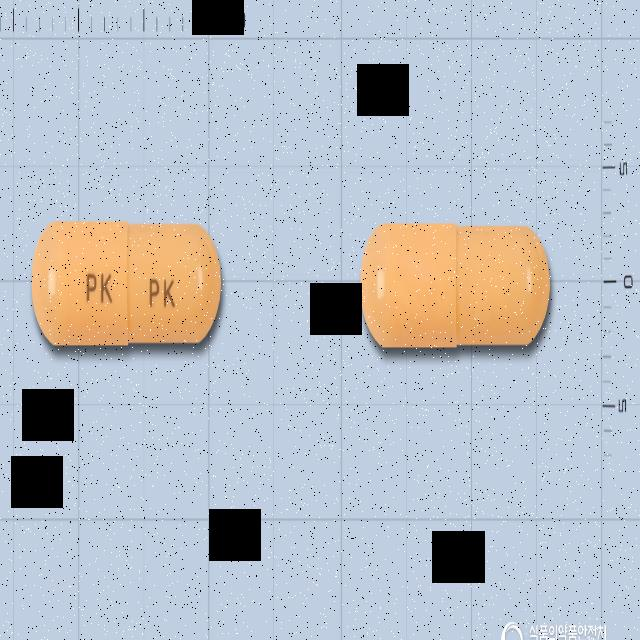Cefac Cap: (30, 215, 225, 351)
